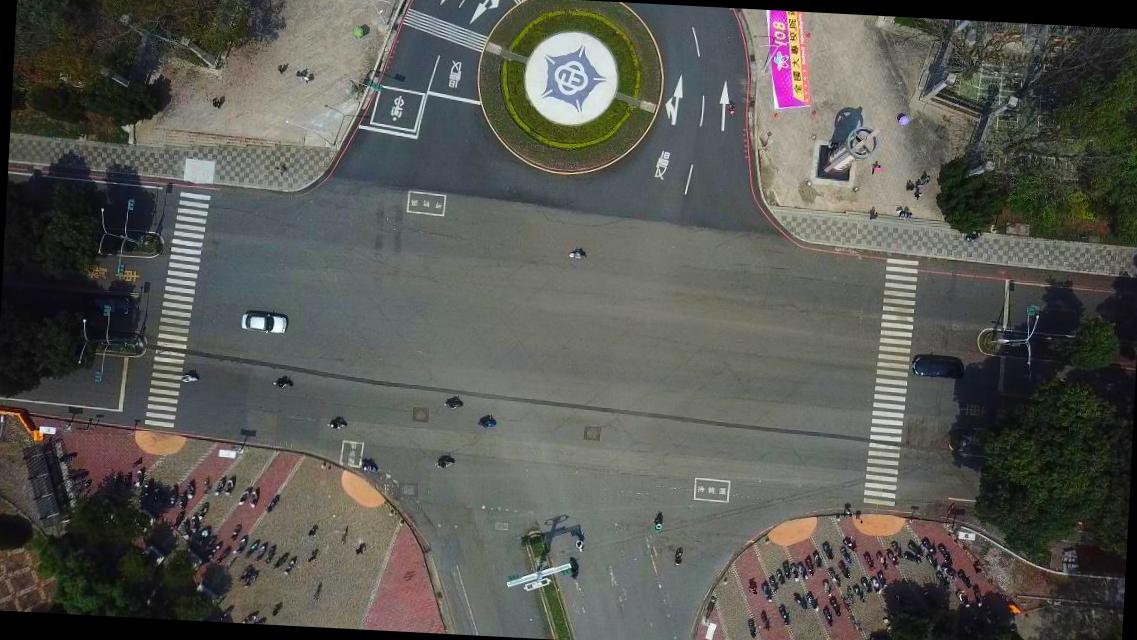vehicle: (910, 353, 964, 380), (239, 310, 288, 336)
